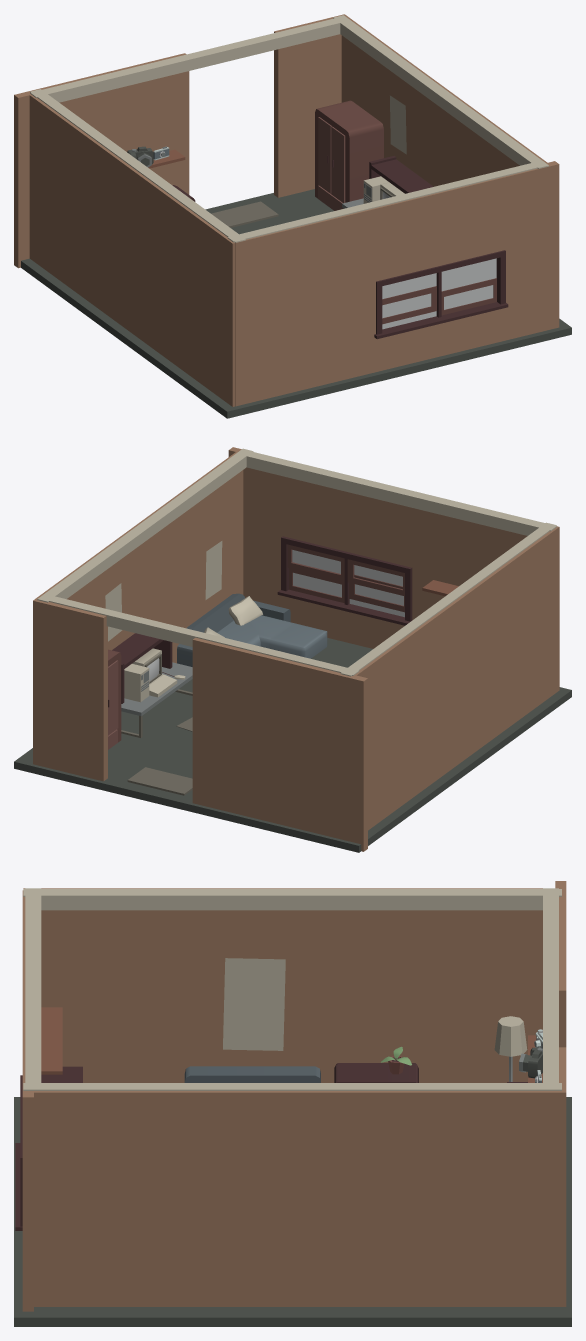
Rendered from Room_models.fbx.
3 views of the same model, one above another, from view 1: azimuth 30°, elevation 25°; view 2: azimuth 150°, elevation 25°; view 3: azimuth 270°, elevation 25° (orthographic). The views are drawn at different scales.
Parts seen in each view (by area): view 1: walls, beams, floor, windows, cupboard_drawer, table_shelf, rug_small, post1; view 2: walls, beams, floor, windows, sofa, table_shelf, cupboard_drawer, table, rug_small, pc_monitor, pc_base, poster2; view 3: walls, beams, floor, poster3, bed, drawer, wall_rack2, lamp, windows, camera1.
Part boxes in pixels (bbox=[...]): walls: bbox=[14, 14, 559, 406]; beams: bbox=[30, 15, 548, 242]; floor: bbox=[21, 189, 571, 418]; windows: bbox=[374, 250, 508, 339]; cupboard_drawer: bbox=[315, 100, 383, 210]; table_shelf: bbox=[369, 156, 433, 193]; rug_small: bbox=[211, 201, 278, 227]; post1: bbox=[390, 95, 406, 154]; walls: bbox=[33, 447, 559, 851]; beams: bbox=[37, 448, 556, 676]; floor: bbox=[14, 638, 571, 852]; windows: bbox=[277, 536, 412, 625]; sofa: bbox=[177, 593, 327, 666]; table_shelf: bbox=[112, 633, 172, 703]; cupboard_drawer: bbox=[108, 649, 121, 749]; table: bbox=[121, 662, 192, 737]; rug_small: bbox=[127, 767, 192, 795]; pc_monitor: bbox=[132, 648, 177, 697]; pc_base: bbox=[124, 664, 149, 702]; poster2: bbox=[205, 541, 222, 599]; walls: bbox=[22, 881, 566, 1311]; beams: bbox=[23, 888, 561, 1090]; floor: bbox=[14, 1097, 571, 1326]; poster3: bbox=[223, 958, 285, 1050]; bed: bbox=[184, 1066, 320, 1082]; drawer: bbox=[334, 1063, 418, 1082]; wall_rack2: bbox=[41, 1007, 62, 1074]; lamp: bbox=[494, 1016, 527, 1081]; windows: bbox=[15, 1075, 22, 1230]; camera1: bbox=[519, 1047, 542, 1078].
Bounding box in the file's own units: 911 × 429 × 966.
